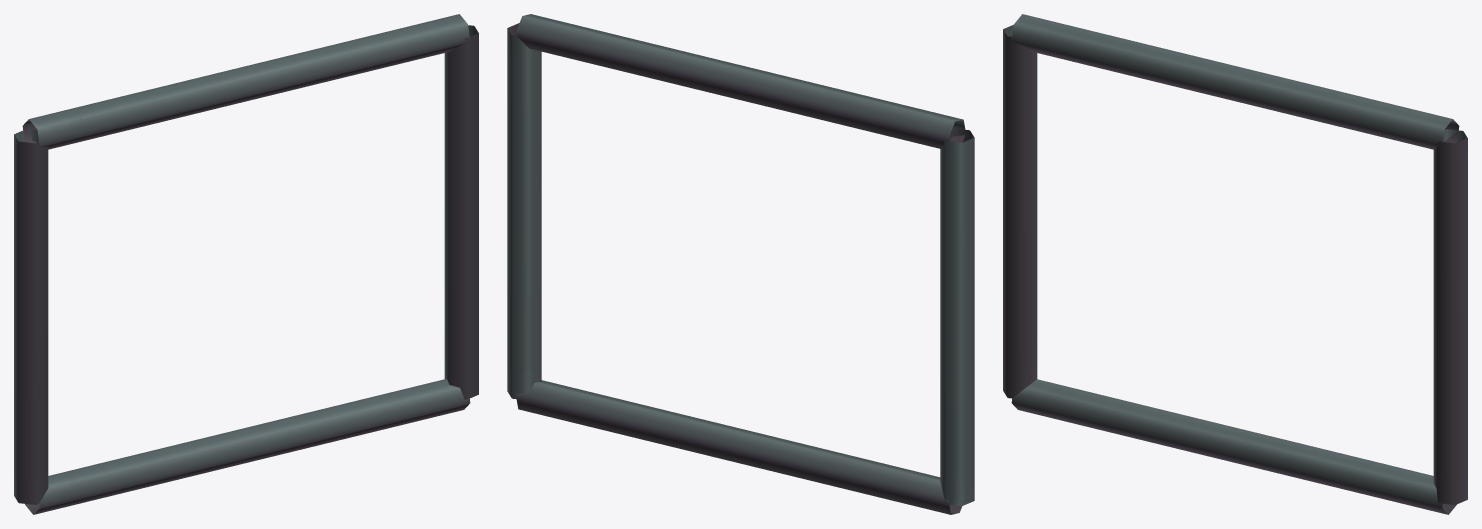
File: viga1.fbx
The picture shows the model from 3 angles, left to right: view 1: azimuth 30°, elevation 25°; view 2: azimuth 150°, elevation 25°; view 3: azimuth 330°, elevation 25°; orthographic projection.
Parts seen in each view (by area): view 1: viga1; view 2: viga1; view 3: viga1.
Boxes of the visible parts, bbox=[...] form: viga1: bbox=[14, 14, 478, 514]; viga1: bbox=[507, 14, 974, 514]; viga1: bbox=[1003, 14, 1467, 514].
Size of the model in its own units: 23.51 by 19.16 by 1.51.
